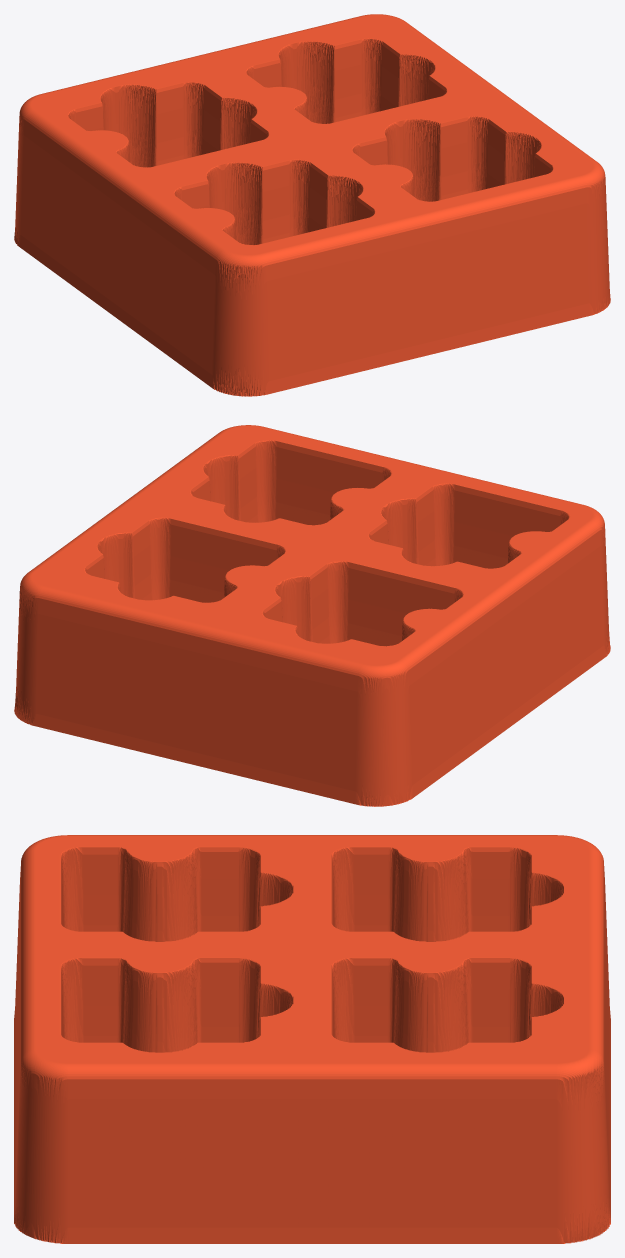
The model's file is mold.glb.
The picture shows the model from 3 angles, top to bottom: view 1: azimuth 30°, elevation 25°; view 2: azimuth 150°, elevation 25°; view 3: azimuth 270°, elevation 25°; orthographic projection. The views are drawn at different scales.
Parts seen in each view (by area): view 1: geometry_0; view 2: geometry_0; view 3: geometry_0.
Boxes of the visible parts, x1,y1,x2,y2 form: geometry_0: [14, 14, 610, 396]; geometry_0: [14, 425, 610, 806]; geometry_0: [14, 835, 610, 1243].
Bounding box in the file's own units: 0.0964 × 0.0314 × 0.0992.
